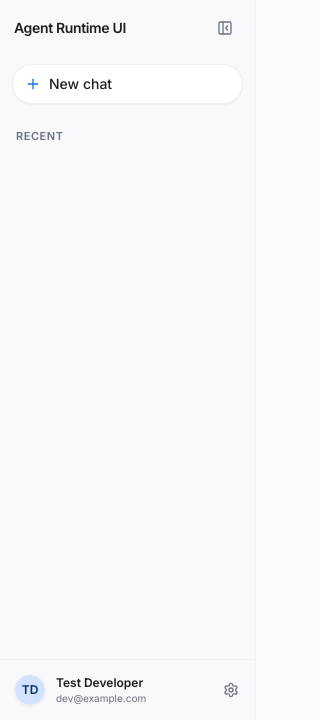
Scenario: ThreadSidebar Component › toggles collapse state when clicking the panel toggle button
# Click to collapse
Click the button named "collapse sidebar" at [225, 28], box [209,12,241,44]
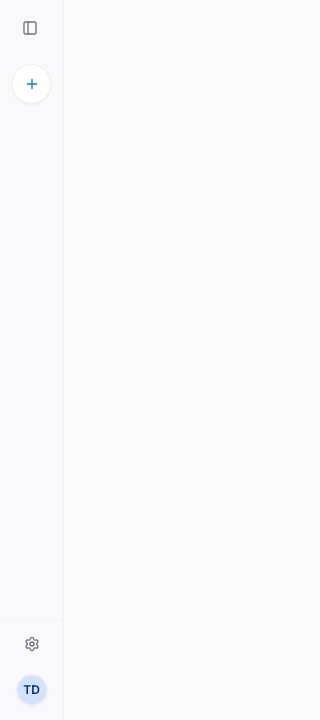
expect the text "Agent Runtime UI" is gone: met
expect the button named "expand sidebar" is shown: met
# Click to expand again
Click the button named "expand sidebar" at [30, 28], box [14,12,46,44]
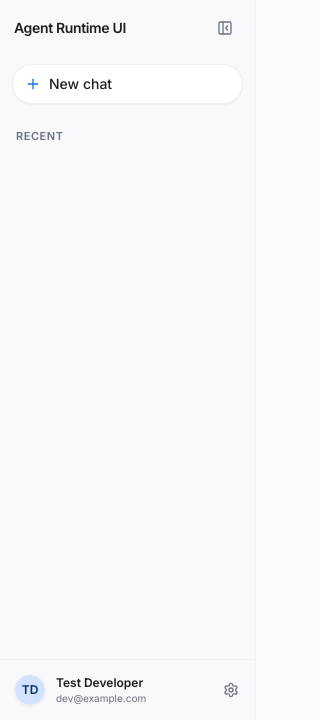
expect the text "Agent Runtime UI" is shown: met, box [14,18,126,38]
